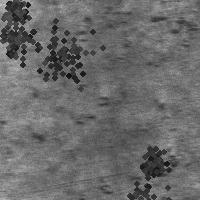rolled-in_scale: (23, 85, 181, 190), (19, 14, 103, 98), (45, 13, 200, 46), (1, 118, 76, 160), (106, 162, 182, 200), (0, 9, 41, 65), (129, 140, 171, 182), (0, 0, 33, 28)
